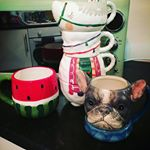cups: (80, 74, 145, 143), (9, 64, 63, 126), (60, 28, 116, 58)
